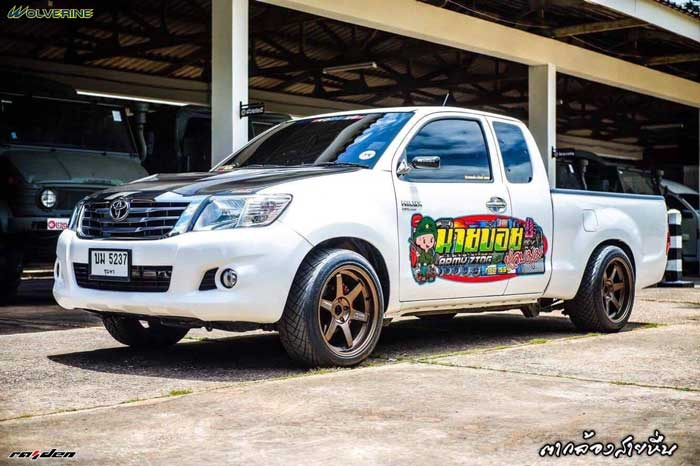pickup: (51, 103, 668, 364)
